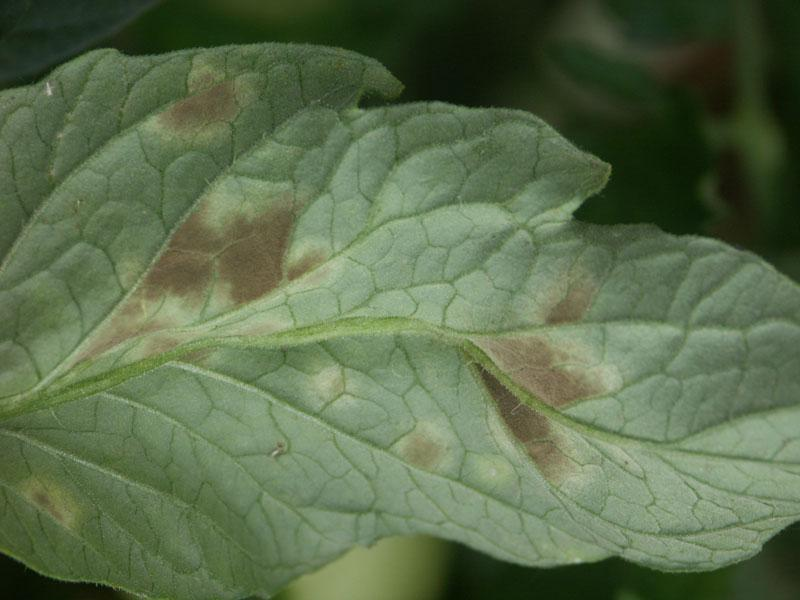Tomato mold leaf: (1, 25, 797, 590)
